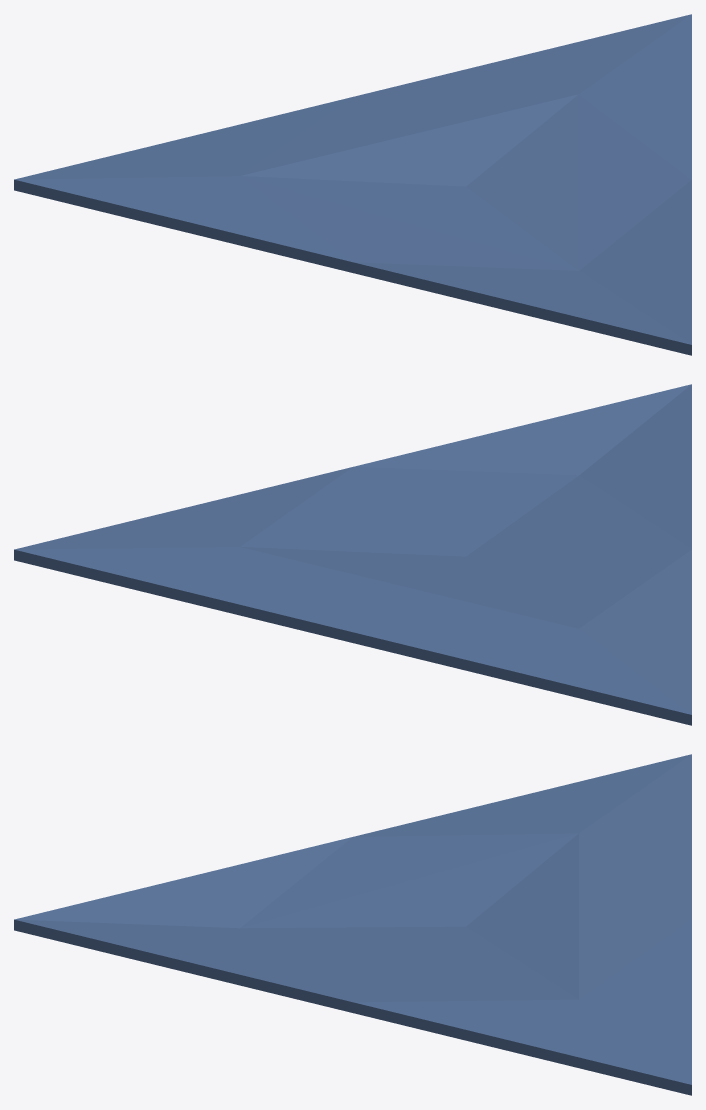
The picture shows the model from 3 angles, top to bottom: view 1: azimuth 30°, elevation 25°; view 2: azimuth 150°, elevation 25°; view 3: azimuth 270°, elevation 25°; orthographic projection.
Parts seen in each view (by area): view 1: water4; view 2: water4; view 3: water4.
Part boxes in pixels (x1,y1,x2,y2): water4: [14, 14, 691, 355]; water4: [14, 384, 691, 725]; water4: [14, 754, 691, 1095].
Bounding box in the file's own units: 1 × 0.0203 × 0.866.
